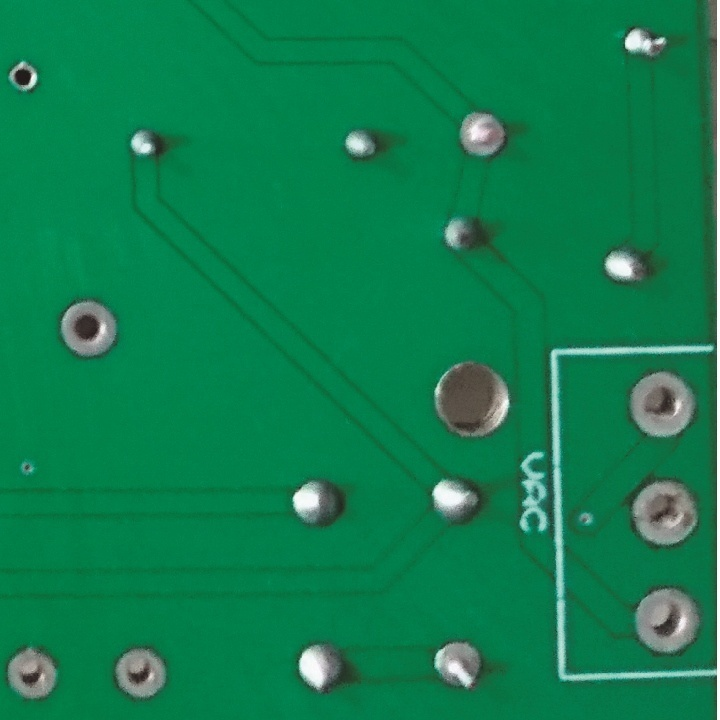F: (626, 475, 701, 549), (625, 366, 699, 441), (633, 583, 706, 658), (59, 298, 124, 360), (6, 644, 71, 698), (456, 106, 508, 169), (430, 638, 493, 689), (113, 646, 167, 702), (4, 55, 43, 95)
